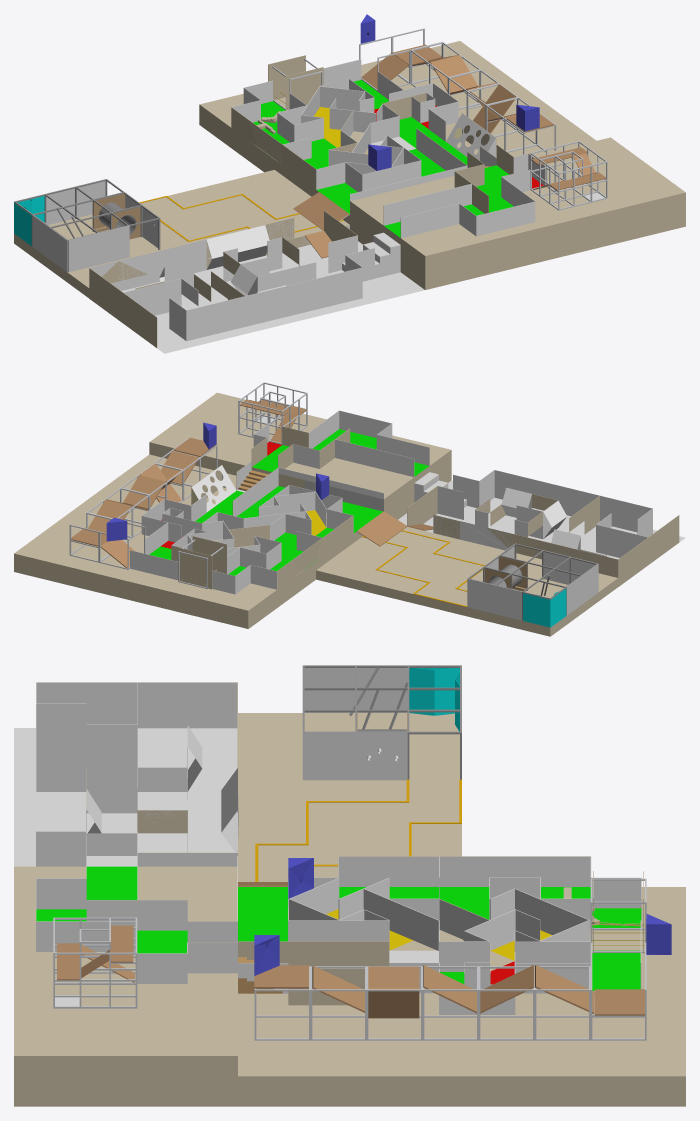
File: RCJO2015RRL_Field_Tele.dae
3 views of the same model, one above another, from view 1: azimuth 30°, elevation 25°; view 2: azimuth 150°, elevation 25°; view 3: azimuth 270°, elevation 25° (orthographic). The views are drawn at different scales.
Parts seen in each view (by area): view 1: Model, Group1, Group83, Group82, Group85, Group102, Group67, Group66, Group90, Cube_006, Cube_007; view 2: Model, Group1, Group102, Group85, Group86, Group82, Group90, Group67, Group66, Cube_009; view 3: Model, Group1, Group84, Group104, Group67, Group66, Group93, Cube_009, Cube_007, Cube_006, Group91.
Part boxes in pixels (x1=…): Model: x1=89, y1=28, x2=685, y2=353; Group1: x1=14, y1=170, x2=349, y2=298; Group83: x1=68, y1=233, x2=99, y2=271; Group82: x1=99, y1=225, x2=129, y2=264; Group85: x1=46, y1=188, x2=74, y2=224; Group102: x1=77, y1=181, x2=105, y2=217; Group67: x1=50, y1=228, x2=67, y2=272; Group66: x1=32, y1=215, x2=49, y2=259; Group90: x1=14, y1=203, x2=31, y2=245; Cube_006: x1=368, y1=144, x2=391, y2=170; Cube_007: x1=516, y1=104, x2=539, y2=131; Model: x1=14, y1=382, x2=685, y2=628; Group1: x1=316, y1=526, x2=618, y2=636; Group102: x1=467, y1=578, x2=494, y2=613; Group85: x1=494, y1=585, x2=521, y2=620; Group86: x1=523, y1=593, x2=550, y2=627; Group82: x1=543, y1=552, x2=569, y2=584; Group90: x1=550, y1=589, x2=566, y2=626; Group67: x1=583, y1=564, x2=598, y2=603; Group66: x1=567, y1=575, x2=582, y2=615; Cube_009: x1=106, y1=517, x2=127, y2=541; Model: x1=14, y1=682, x2=685, y2=1106; Group1: x1=238, y1=713, x2=461, y2=881; Group84: x1=302, y1=732, x2=355, y2=780; Group104: x1=355, y1=732, x2=407, y2=780; Group67: x1=304, y1=668, x2=355, y2=712; Group66: x1=357, y1=668, x2=407, y2=712; Group93: x1=409, y1=668, x2=434, y2=715; Cube_009: x1=646, y1=914, x2=671, y2=954; Cube_007: x1=254, y1=935, x2=279, y2=975; Cube_006: x1=288, y1=858, x2=313, y2=898; Group91: x1=435, y1=668, x2=459, y2=715.
Size of the model in its own units: 1.6 by 1.2 by 0.2232.
